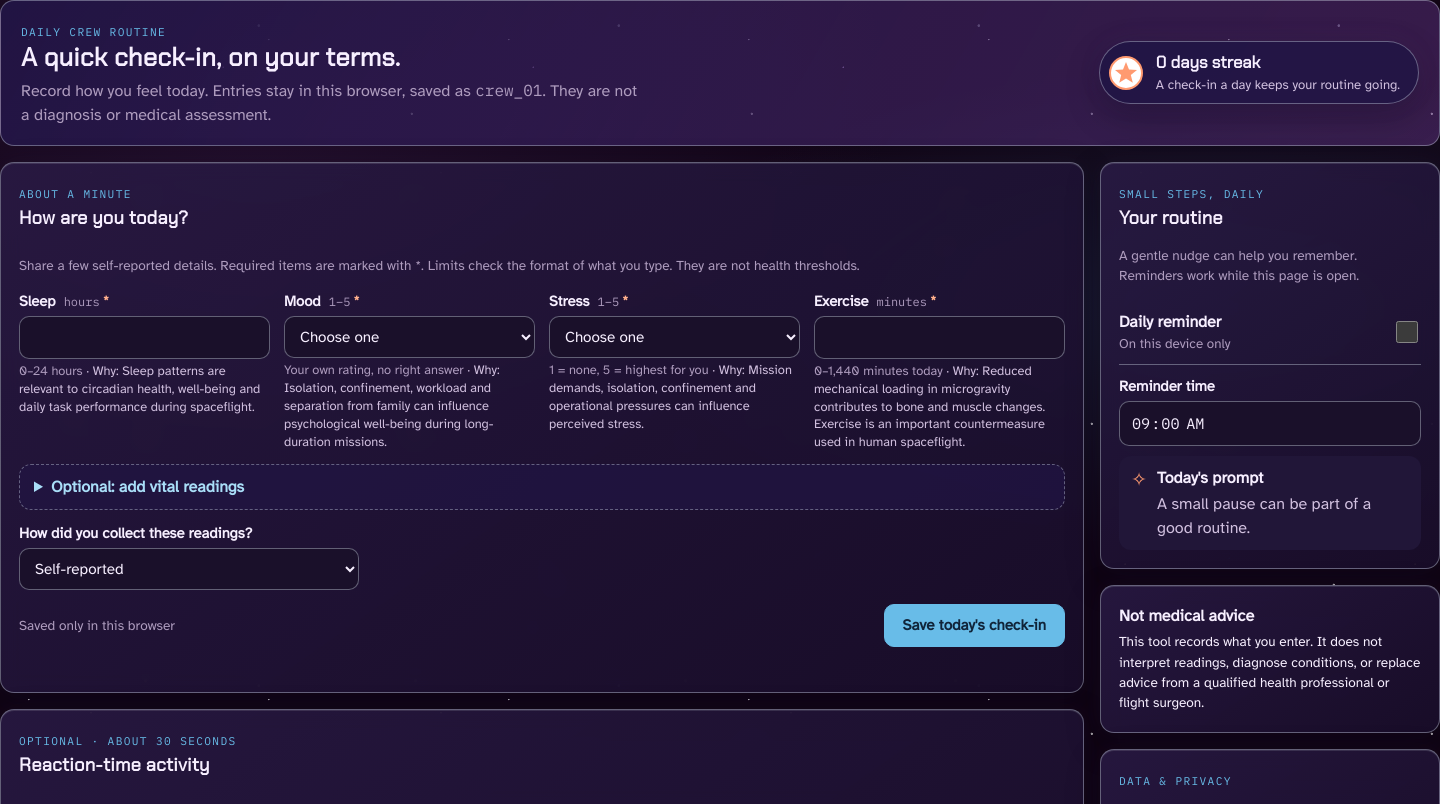
Test case: CheckInPage › shows a clear error and saves nothing for invalid input
In the number field labelled "Sleep hours*": x=144, y=337 top-left (19, 316), bottom-right (270, 359), type "30"
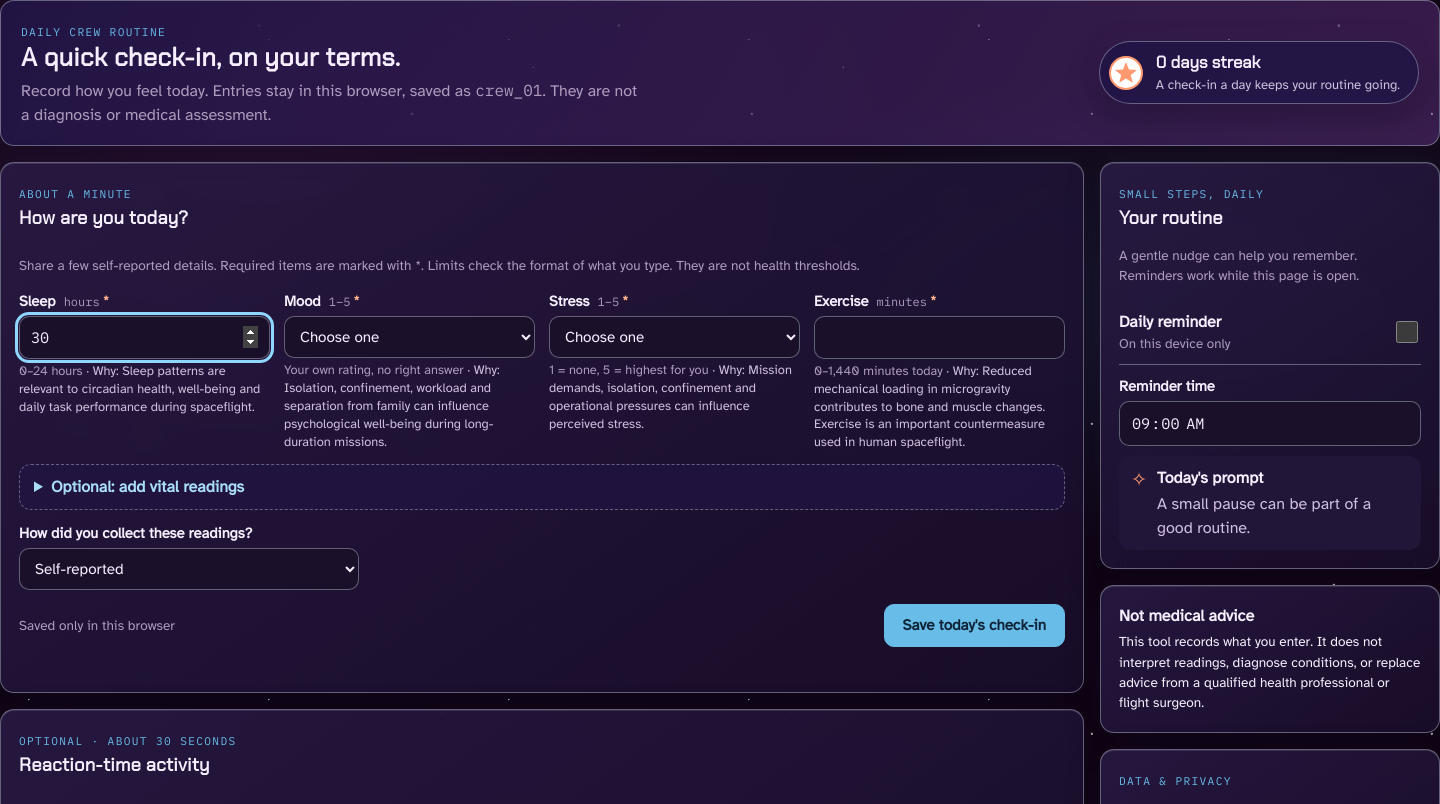
Click the button "Save today's check-in": x=974, y=626 top-left (884, 604), bottom-right (1065, 647)
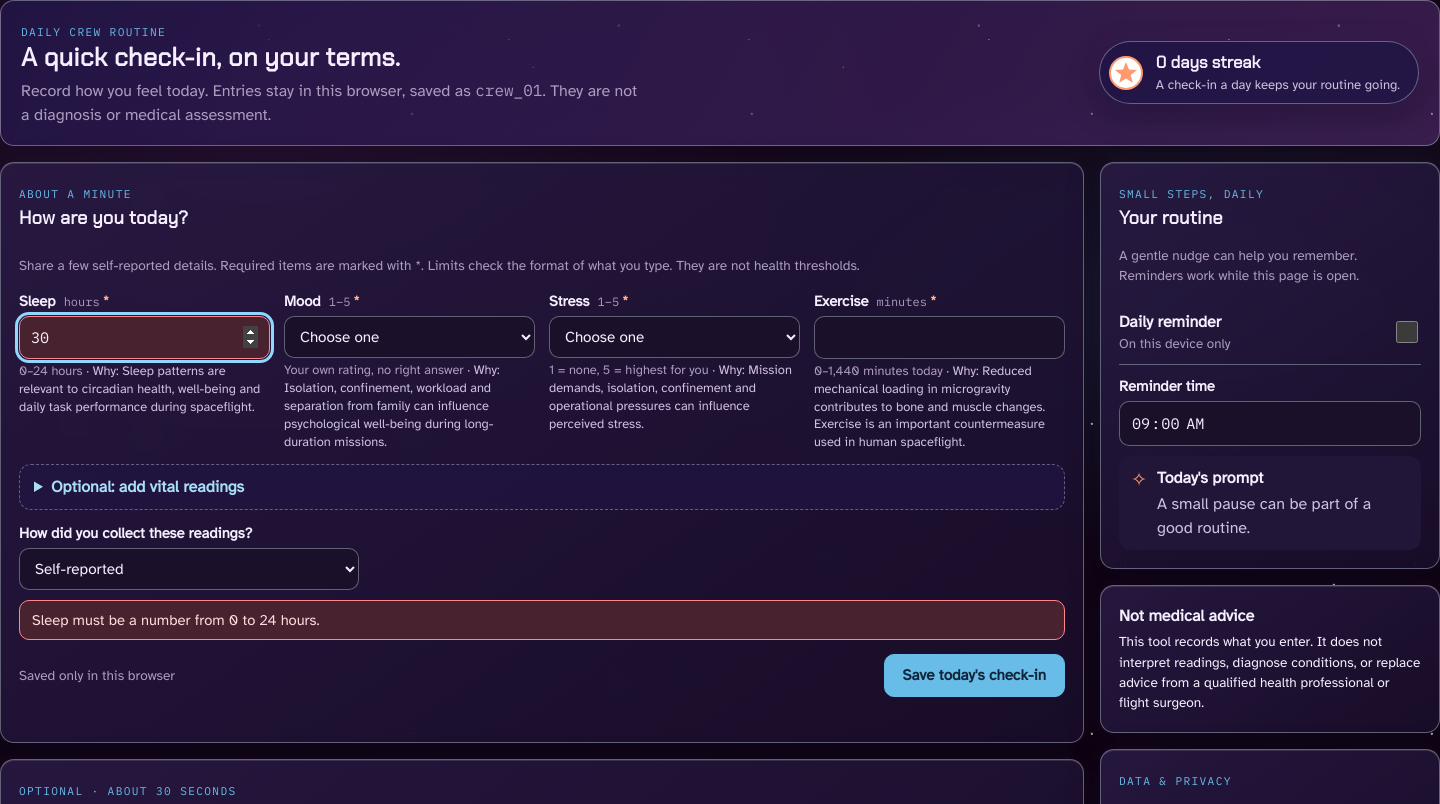
Check: the message "Sleep must be a number from 0 to 24 hours." is shown, box top-left (19, 600), bottom-right (1065, 640)
